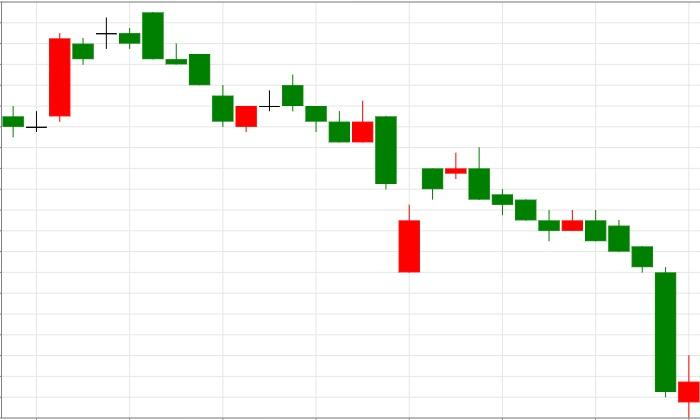bearish_engulfing_fall: (398, 147, 491, 274)
